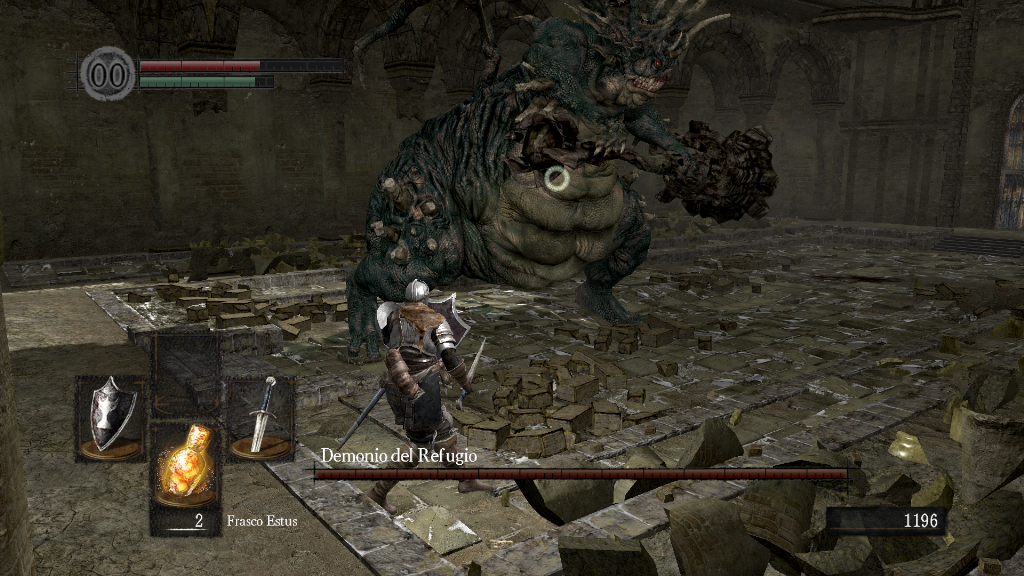asylumDemon: (342, 2, 785, 351)
bossHP: (314, 469, 847, 479)
health: (138, 58, 343, 71)
humanity: (80, 45, 136, 102)
player: (367, 276, 498, 518)
souls: (825, 506, 945, 536)
stamina: (138, 74, 274, 88)
